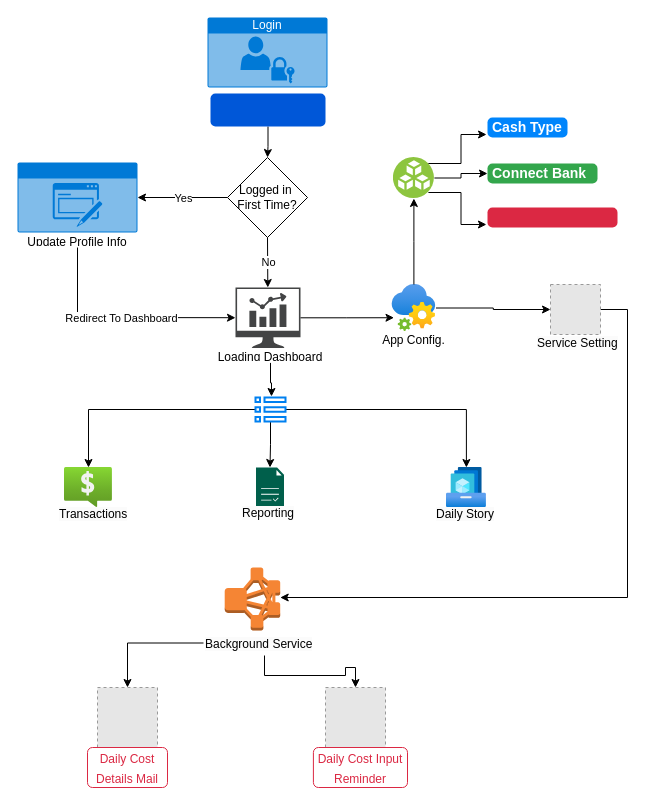
Image size: 653x805. Some labels were removed from this diagram. Grey dashed boxes stand in for pictures. Here are the shapes that lost their labels. From the top down, the centre of each, then its label:
point (267, 109): Connect with Gmail
point (77, 197): Form
point (552, 217): Create Categories
